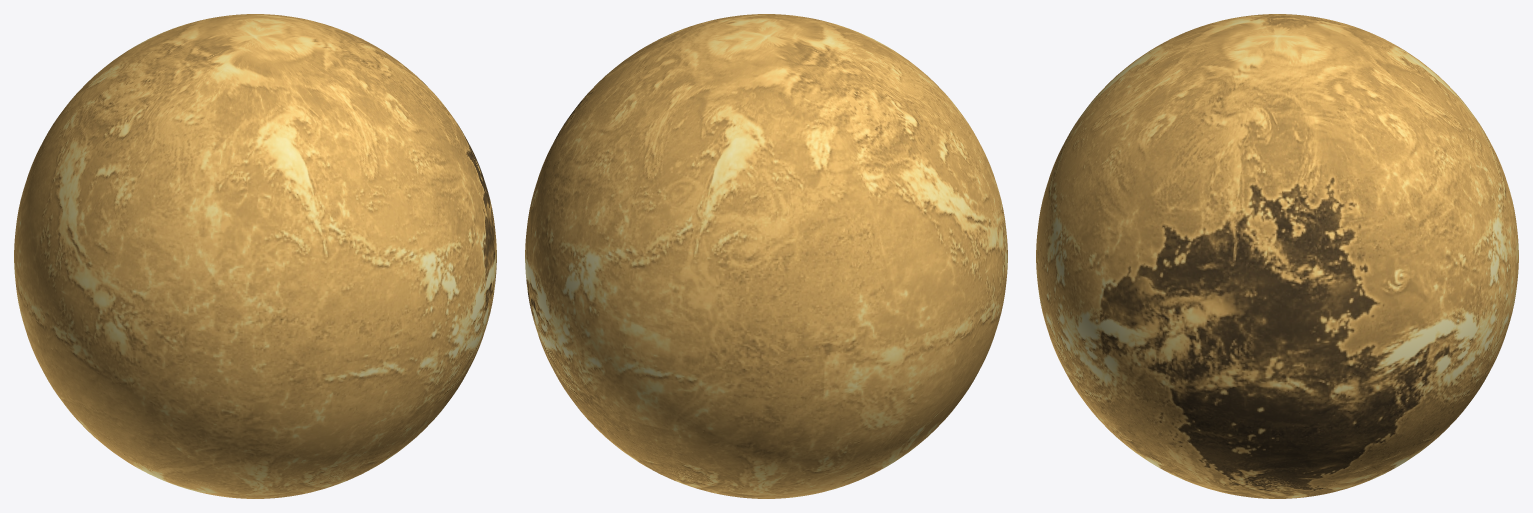
File: proxima_centariu_b_.glb
3 views of the same model, side by side, from view 1: azimuth 30°, elevation 25°; view 2: azimuth 150°, elevation 25°; view 3: azimuth 270°, elevation 25° (orthographic).
Parts seen in each view (by area): view 1: Sphere_0; view 2: Sphere_0; view 3: Sphere_0.
Boxes of the visible parts, x1,y1,x2,y2 form: Sphere_0: (14,14,496,498); Sphere_0: (525,14,1007,498); Sphere_0: (1036,14,1518,498).
Size of the model in its own units: 1.99 by 2 by 1.99.
1 material, 1 textured.
